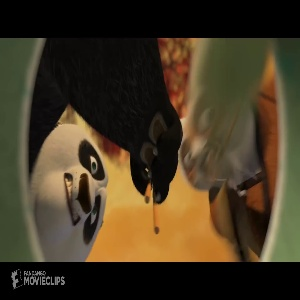po: (31, 118, 106, 262)
shifu: (173, 63, 275, 256)
